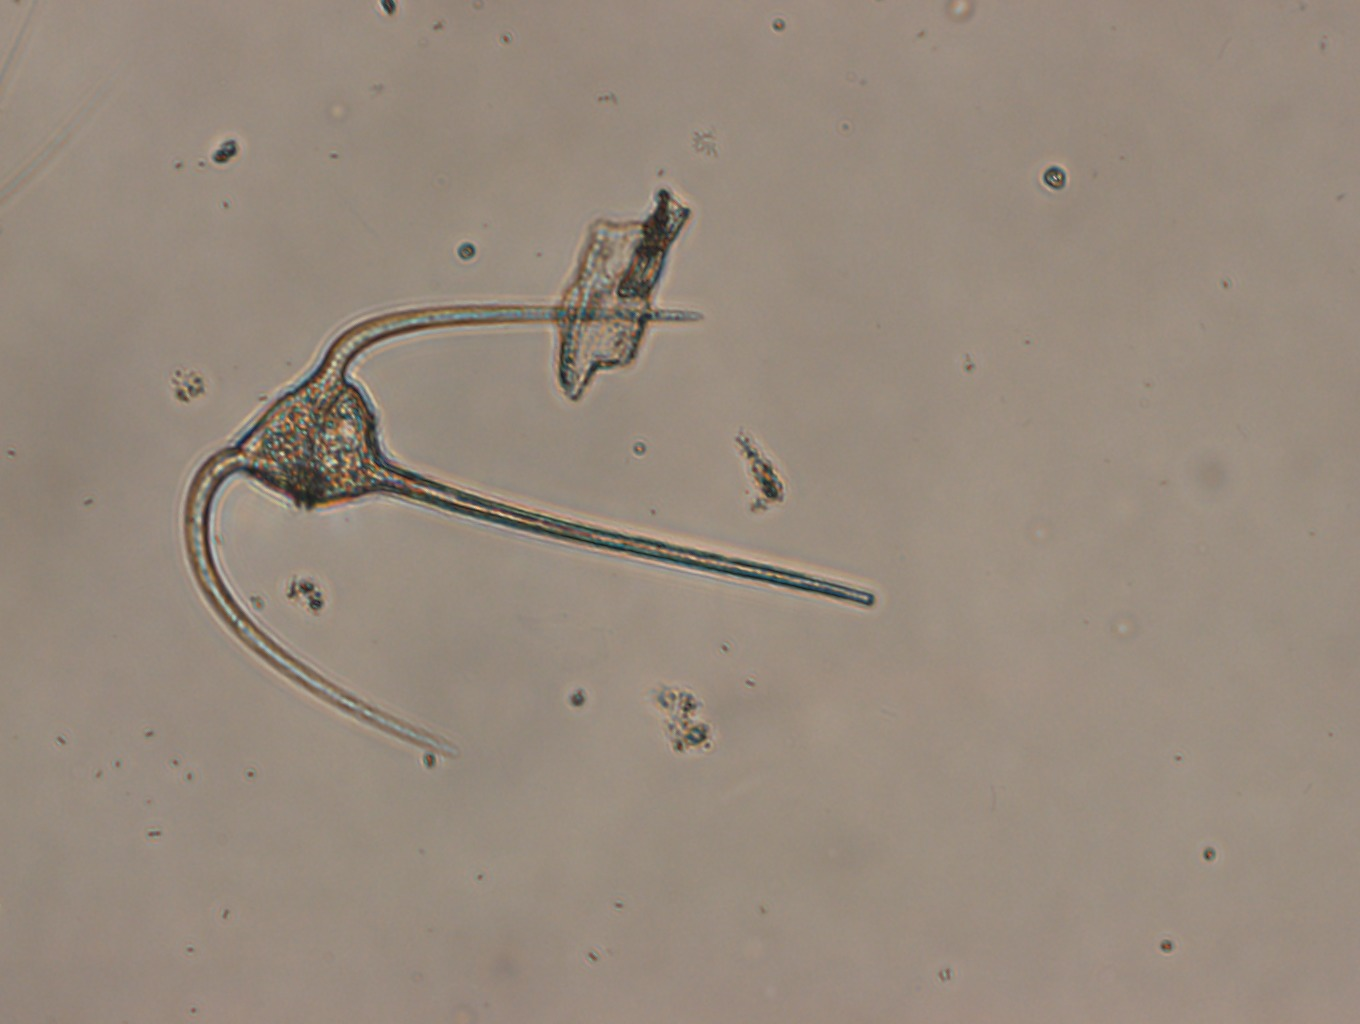ceratium trichoceros: (184, 305, 873, 751)
